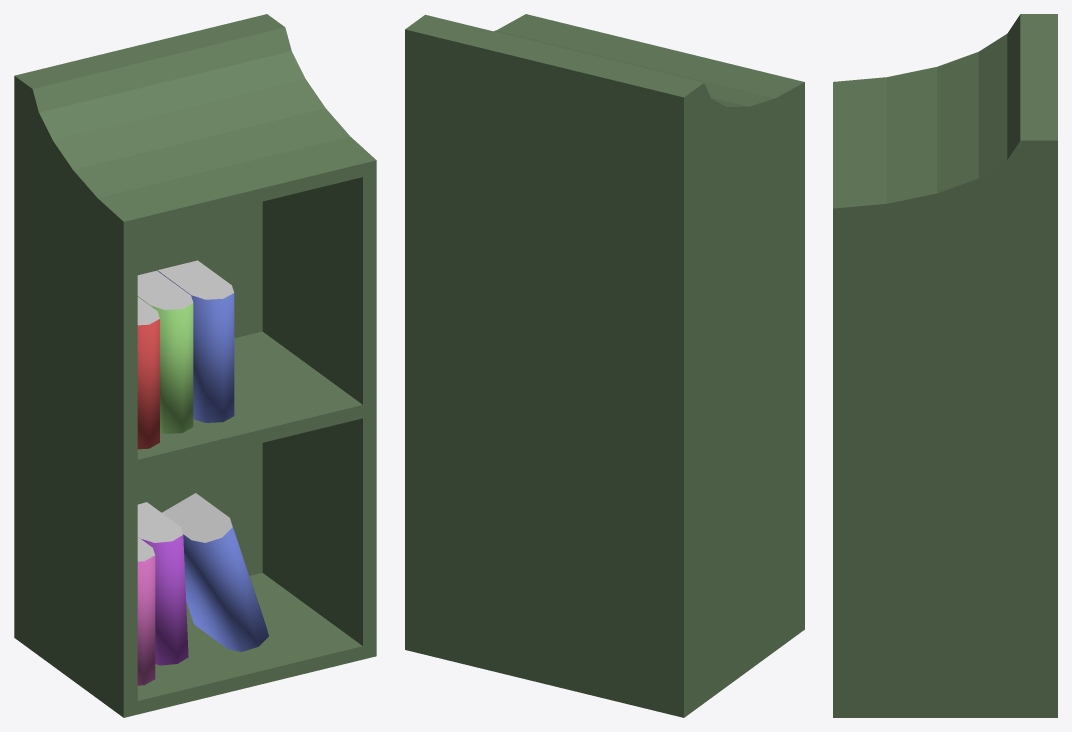
The model's file is Bookshelf.fbx.
3 renders of one model, left to right at view 1: azimuth 30°, elevation 25°; view 2: azimuth 150°, elevation 25°; view 3: azimuth 270°, elevation 25°, orthographic. The views are drawn at different scales.
Parts seen in each view (by area): view 1: Bookshelf; view 2: Bookshelf; view 3: Bookshelf.
Boxes of the visible parts, <box> form: Bookshelf: <box>14,14,376,717</box>; Bookshelf: <box>405,14,804,717</box>; Bookshelf: <box>833,14,1057,717</box>.
Size of the model in its own units: 400 by 850 by 300.
